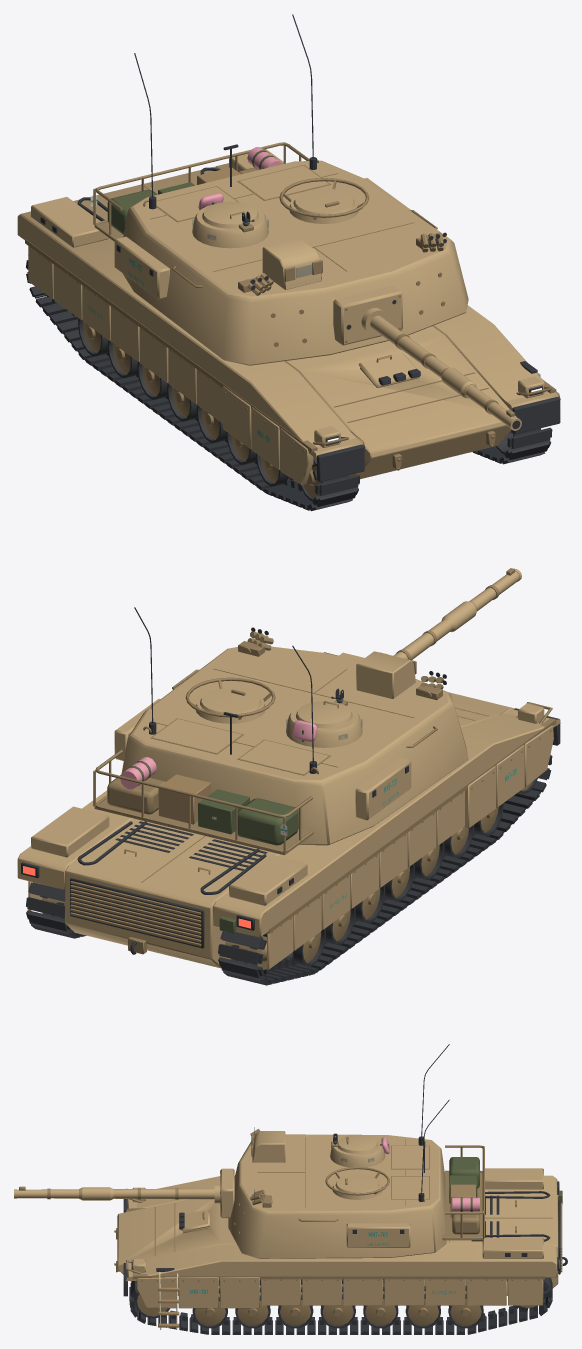
The picture shows the model from 3 angles, top to bottom: view 1: azimuth 30°, elevation 25°; view 2: azimuth 150°, elevation 25°; view 3: azimuth 270°, elevation 25°; orthographic projection. The views are drawn at different scales.
Visible parts, largest first — view 1: body, turret, gun_main, turret_thin, turret_fine, hatch_loader, hatch_cdr, body_thin, hatch_driver, body_fine, roadwheel_R_05, roadwheel_R_04 (+3 smaller); view 2: turret, body, body_thin, turret_thin, turret_fine, gun_main, body_fine, hatch_loader, hatch_cdr, roadwheel_R_07, roadwheel_R_03, roadwheel_R_06 (+4 smaller); view 3: body, turret, gun_main, turret_fine, turret_thin, body_thin, body_fine, roadwheel_L_05, roadwheel_L_07, roadwheel_L_04, roadwheel_L_06, roadwheel_L_03 (+5 smaller).
Part boxes in pixels (box(x1,y1,x2,y2)): body: box(17, 149, 560, 484); turret: box(94, 147, 468, 365); gun_main: box(333, 285, 521, 430); turret_thin: box(90, 14, 437, 287); turret_fine: box(90, 165, 446, 346); hatch_loader: box(293, 188, 354, 214); hatch_cdr: box(202, 201, 258, 228); body_thin: box(40, 167, 552, 470); hatch_driver: box(358, 352, 420, 386); body_fine: box(30, 185, 488, 451); roadwheel_R_05: box(137, 362, 167, 399); roadwheel_R_04: box(167, 383, 197, 421); turret: box(94, 631, 468, 855); body: box(17, 692, 560, 969); body_thin: box(70, 652, 552, 954); turret_thin: box(93, 607, 437, 852); turret_fine: box(150, 627, 446, 832); gun_main: box(338, 568, 521, 661); body_fine: box(115, 707, 551, 933); hatch_loader: box(200, 688, 261, 714); hatch_cdr: box(296, 701, 352, 728); roadwheel_R_07: box(293, 929, 325, 966); roadwheel_R_03: box(414, 842, 444, 879); roadwheel_R_06: box(325, 907, 355, 944); body: box(117, 1168, 562, 1308); turret: box(228, 1129, 483, 1258); gun_main: box(14, 1168, 234, 1218); turret_fine: box(234, 1127, 429, 1245); turret_thin: box(251, 1044, 484, 1239); body_thin: box(114, 1188, 567, 1329); body_fine: box(141, 1195, 552, 1294); roadwheel_L_05: box(363, 1294, 398, 1328); roadwheel_L_07: box(448, 1294, 483, 1328); roadwheel_L_04: box(320, 1294, 355, 1328); roadwheel_L_06: box(405, 1294, 440, 1328); roadwheel_L_03: box(278, 1295, 313, 1328).
Size of the model in its own units: 3.83 by 4.42 by 9.97.
